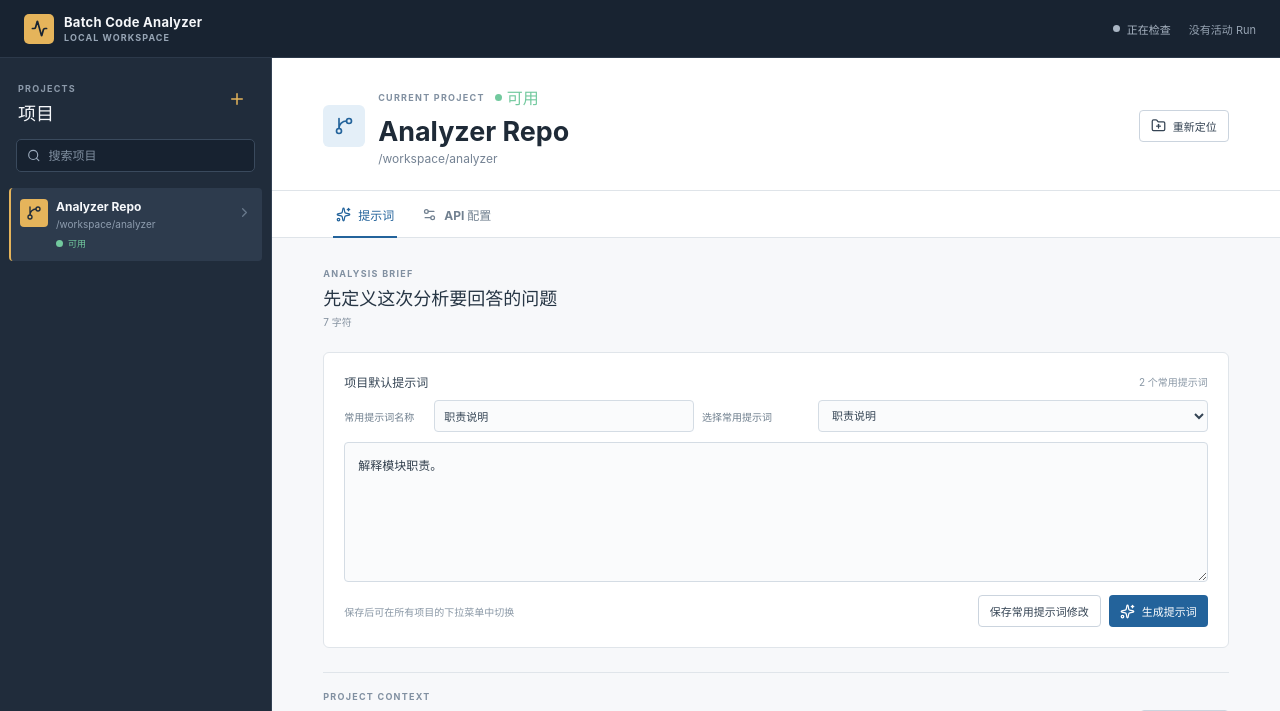
it: AppShell › selects a global prompt and fills the editor
Select "影响分析" in the dropdown labelled "选择常用提示词": (1013, 416) [818,400,1208,432]
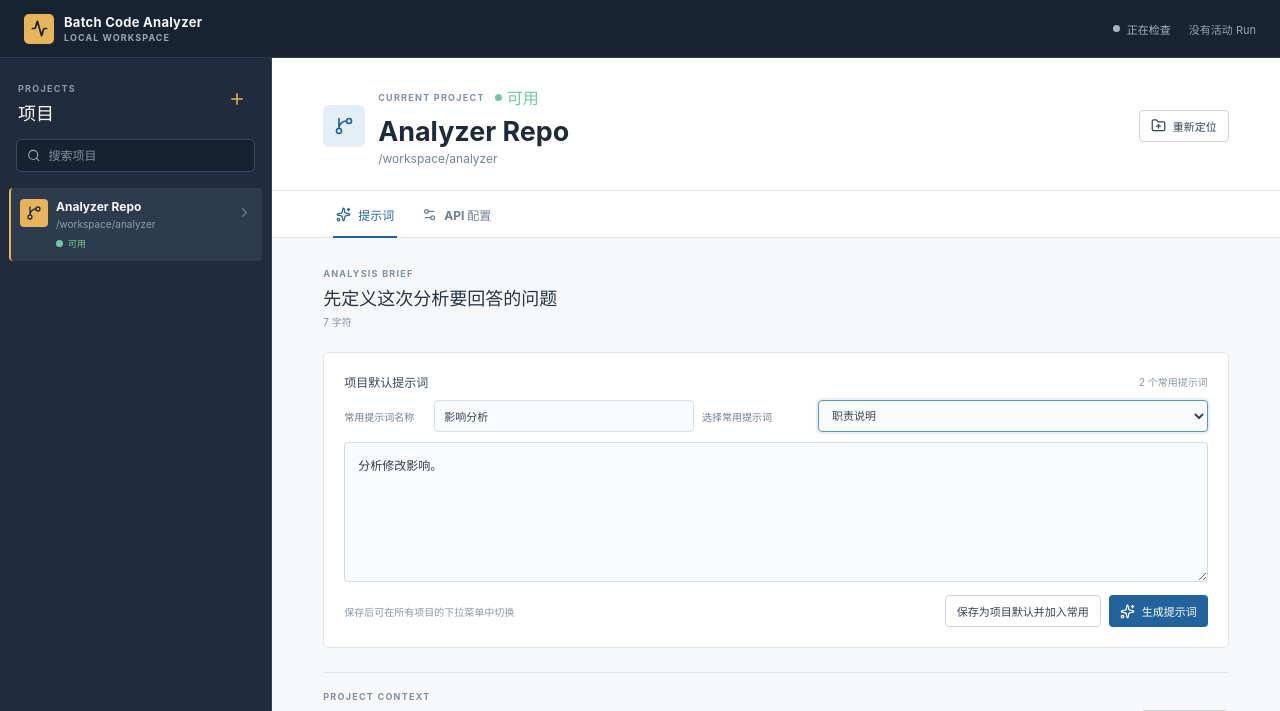
Expected: the text box showing "分析修改影响。" is shown, [344,442,1208,582]
